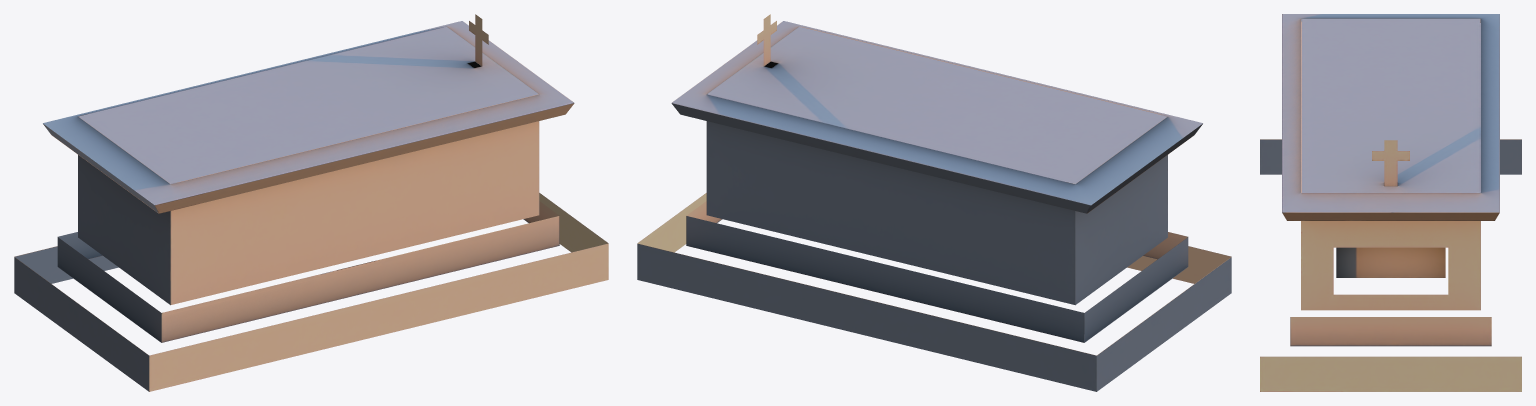
3 views of the same model, side by side, from view 1: azimuth 30°, elevation 25°; view 2: azimuth 150°, elevation 25°; view 3: azimuth 270°, elevation 25° (orthographic). The views are drawn at different scales.
Parts seen in each view (by area): view 1: Tombe5 low; view 2: Tombe5 low; view 3: Tombe5 low.
Boxes of the visible parts, x1,y1,x2,y2 form: Tombe5 low: (14,14,608,391); Tombe5 low: (637,14,1231,391); Tombe5 low: (1260,14,1521,391).
Size of the model in its own units: 2.22 by 1.06 by 1.13.
Materials: 1 (1 with a texture image).
